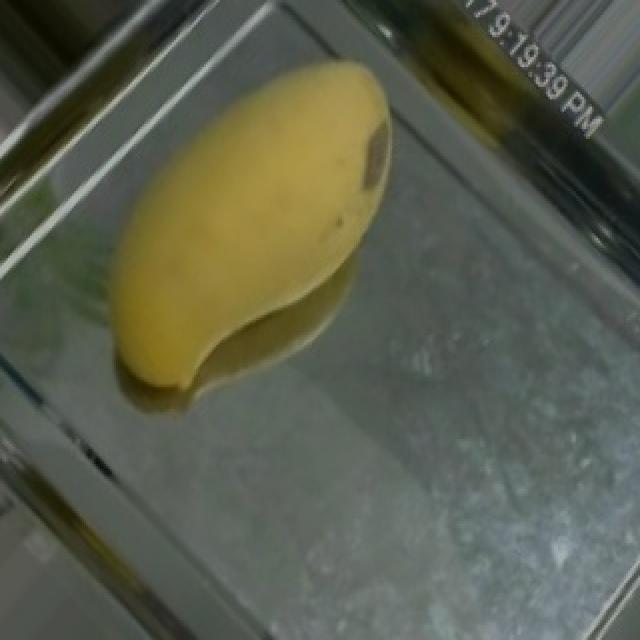fruit: (74, 5, 460, 404)
